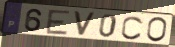0: (97, 14, 118, 39)
6: (24, 8, 44, 33)
C: (120, 15, 145, 41)
E: (44, 9, 72, 37)
O: (145, 16, 169, 44)
V: (72, 10, 97, 38)
